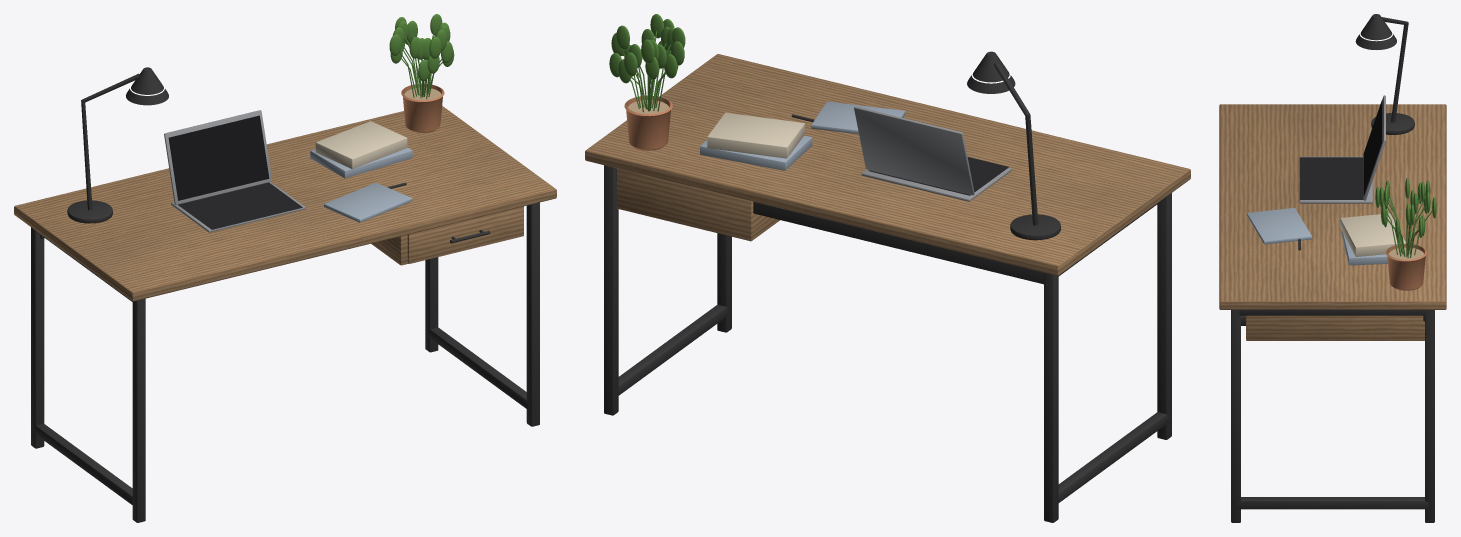
The model's file is escritorio-roble-v2.gltf.
The picture shows the model from 3 angles, left to right: view 1: azimuth 30°, elevation 25°; view 2: azimuth 150°, elevation 25°; view 3: azimuth 270°, elevation 25°; orthographic projection. The views are drawn at different scales.
Parts seen in each view (by area): view 1: escritorio-roble__w_roble_x, escritorio-roble__m_negro, escritorio-roble__k_vidrio_negro, escritorio-roble__pl_negro, escritorio-roble__k_hoja, escritorio-roble__p_libro1, escritorio-roble__p_libro2, escritorio-roble__pl_gris, escritorio-roble__k_terracota; view 2: escritorio-roble__w_roble_x, escritorio-roble__m_negro, escritorio-roble__pl_gris, escritorio-roble__k_hoja, escritorio-roble__p_libro2, escritorio-roble__p_libro1, escritorio-roble__k_terracota, escritorio-roble__pl_negro; view 3: escritorio-roble__w_roble_x, escritorio-roble__m_negro, escritorio-roble__pl_negro, escritorio-roble__p_libro1, escritorio-roble__k_hoja, escritorio-roble__p_libro2, escritorio-roble__k_terracota, escritorio-roble__pl_gris, escritorio-roble__k_vidrio_negro, escritorio-roble__k_corcho.
Part boxes in pixels (x1=…): escritorio-roble__w_roble_x: x1=14, y1=106, x2=556, y2=301; escritorio-roble__m_negro: x1=31, y1=67, x2=539, y2=522; escritorio-roble__k_vidrio_negro: x1=168, y1=115, x2=269, y2=200; escritorio-roble__pl_negro: x1=178, y1=182, x2=302, y2=229; escritorio-roble__k_hoja: x1=389, y1=14, x2=454, y2=99; escritorio-roble__p_libro1: x1=310, y1=147, x2=412, y2=222; escritorio-roble__p_libro2: x1=315, y1=121, x2=407, y2=169; escritorio-roble__pl_gris: x1=164, y1=110, x2=305, y2=232; escritorio-roble__k_terracota: x1=401, y1=84, x2=444, y2=132; escritorio-roble__w_roble_x: x1=585, y1=54, x2=1190, y2=275; escritorio-roble__m_negro: x1=604, y1=51, x2=1171, y2=522; escritorio-roble__pl_gris: x1=854, y1=106, x2=1011, y2=201; escritorio-roble__k_hoja: x1=609, y1=14, x2=685, y2=112; escritorio-roble__p_libro2: x1=707, y1=112, x2=804, y2=158; escritorio-roble__p_libro1: x1=700, y1=101, x2=905, y2=170; escritorio-roble__k_terracota: x1=624, y1=95, x2=672, y2=150; escritorio-roble__pl_negro: x1=868, y1=157, x2=1008, y2=195; escritorio-roble__w_roble_x: x1=1219, y1=104, x2=1446, y2=340; escritorio-roble__m_negro: x1=1231, y1=14, x2=1434, y2=522; escritorio-roble__pl_negro: x1=1299, y1=157, x2=1363, y2=199; escritorio-roble__p_libro1: x1=1247, y1=208, x2=1387, y2=265; escritorio-roble__k_hoja: x1=1375, y1=178, x2=1436, y2=258; escritorio-roble__p_libro2: x1=1340, y1=213, x2=1405, y2=256; escritorio-roble__k_terracota: x1=1385, y1=244, x2=1426, y2=290; escritorio-roble__pl_gris: x1=1299, y1=95, x2=1385, y2=203; escritorio-roble__k_vidrio_negro: x1=1363, y1=100, x2=1382, y2=195; escritorio-roble__k_corcho: x1=1389, y1=247, x2=1423, y2=259.
Size of the model in its own units: 1.4 by 1.19 by 0.6799.
Materials: 12 (1 with a texture image).
